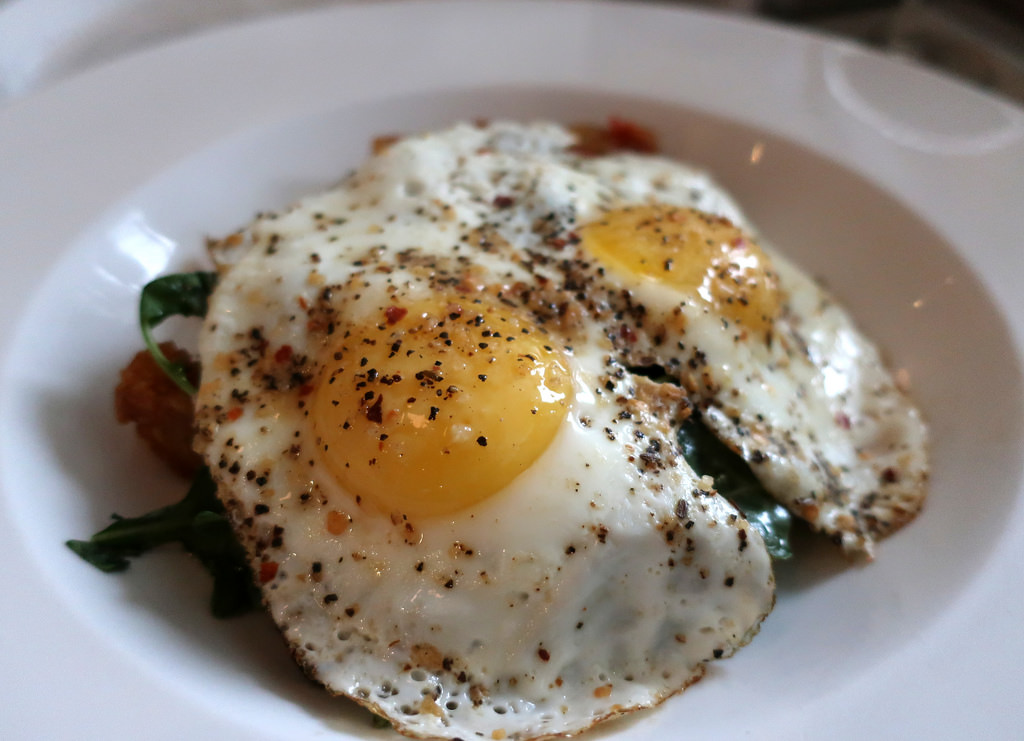fried egg: (245, 147, 914, 667)
